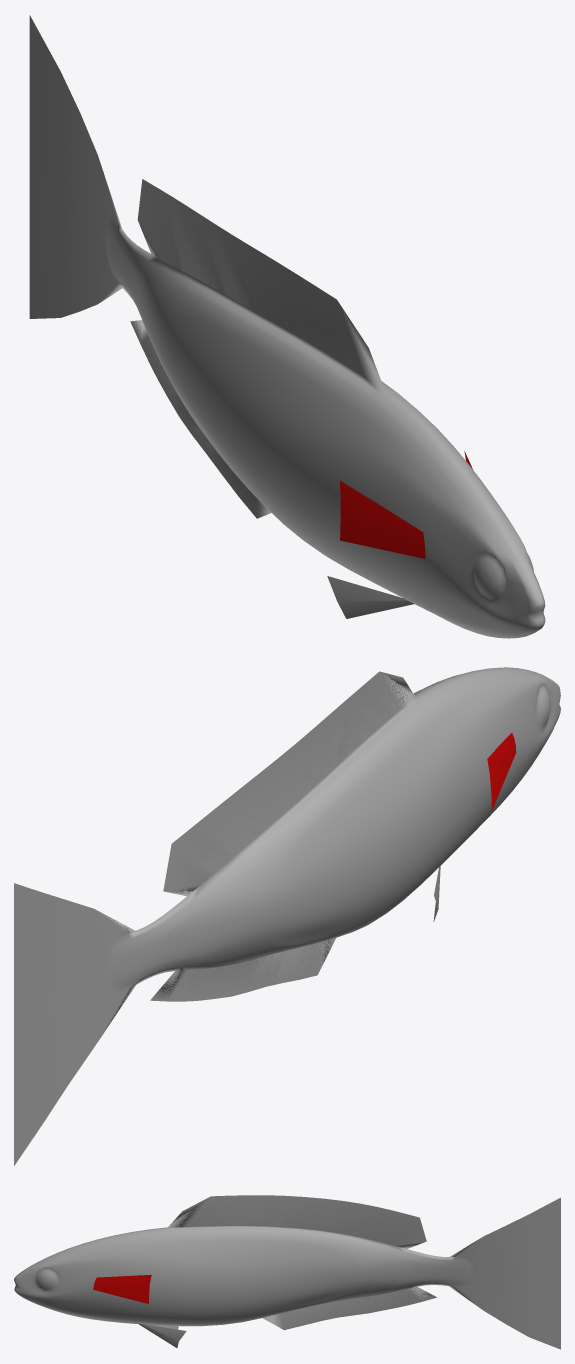
The model's file is Sparidae_B.fbx.
The picture shows the model from 3 angles, top to bottom: view 1: azimuth 30°, elevation 25°; view 2: azimuth 150°, elevation 25°; view 3: azimuth 270°, elevation 25°; orthographic projection. The views are drawn at different scales.
Visible parts, largest first — view 1: Sparidae_B_LOD0; view 2: Sparidae_B_LOD0; view 3: Sparidae_B_LOD0.
Boxes of the visible parts, left/top/right/bottom form: Sparidae_B_LOD0: left=29, top=15, right=545, bottom=638; Sparidae_B_LOD0: left=14, top=667, right=560, bottom=1165; Sparidae_B_LOD0: left=14, top=1195, right=560, bottom=1349.
Size of what is drawn, in the model's own units: 0.1385 by 0.3143 by 1.01.
